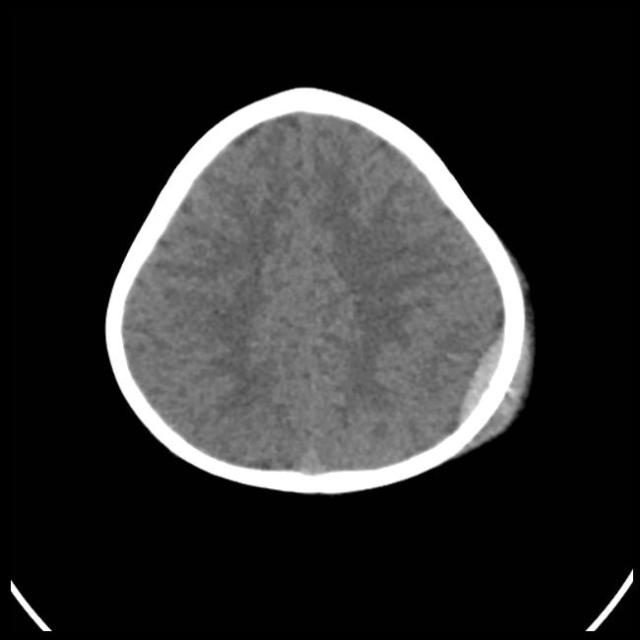lesion: (101, 84, 538, 496)
